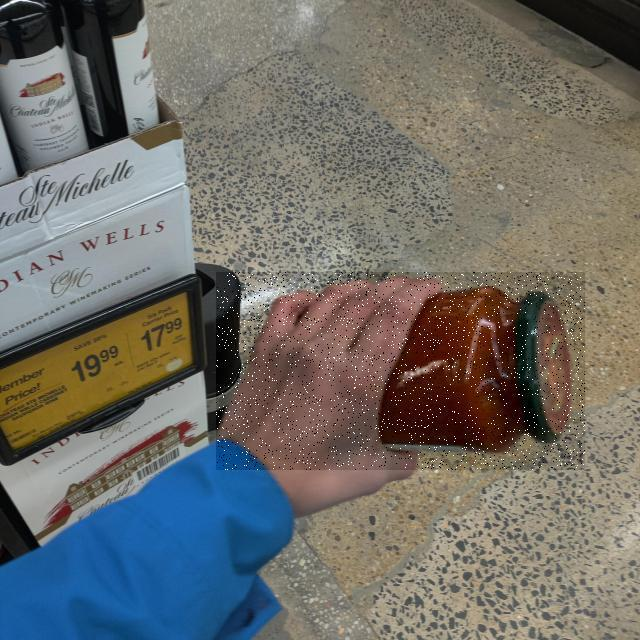Sauce: (216, 272, 585, 470)
